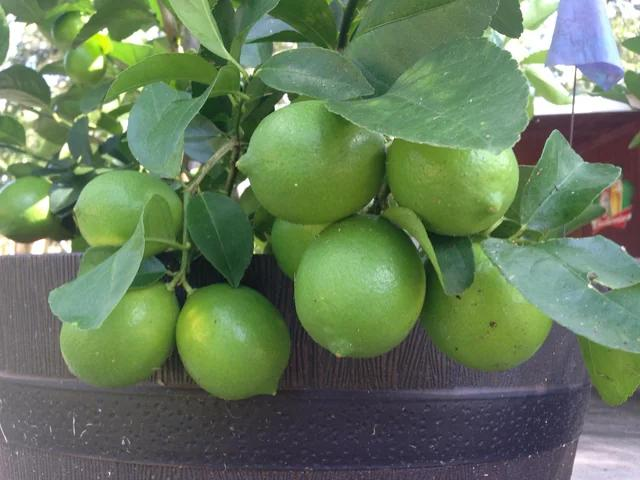lime: (295, 211, 428, 364), (239, 97, 386, 222), (430, 244, 554, 375), (171, 277, 295, 407), (389, 140, 519, 238)
